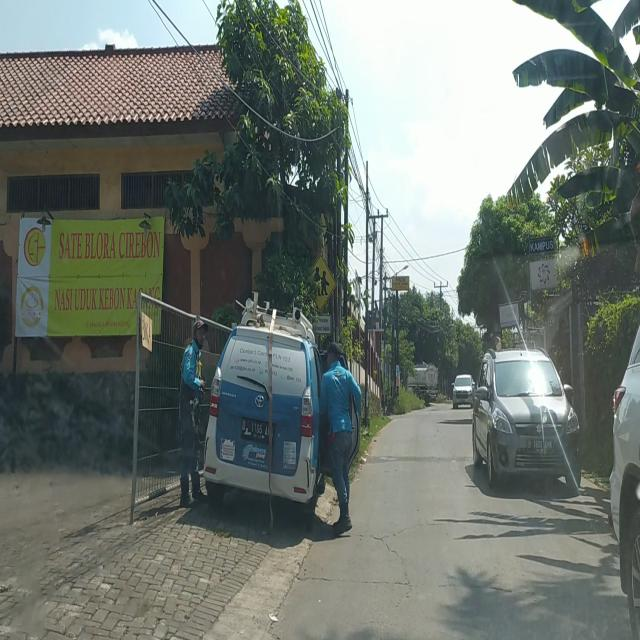Sewer Cover: (346, 528, 445, 572), (299, 576, 416, 591)
